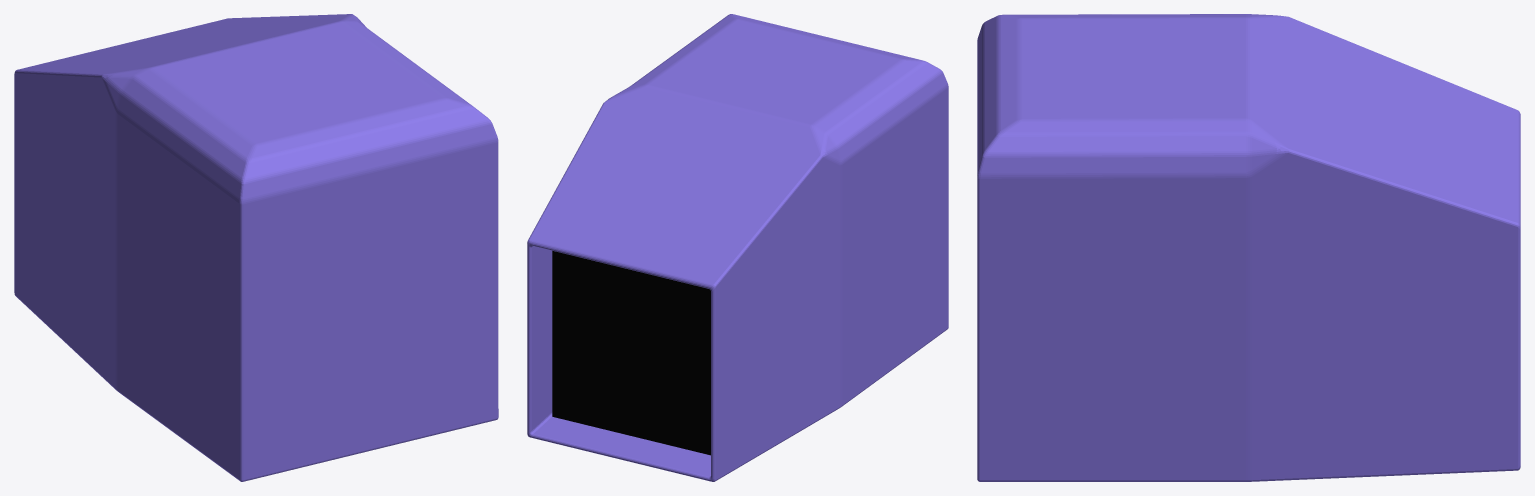
The model's file is ball return.fbx.
The picture shows the model from 3 angles, left to right: view 1: azimuth 30°, elevation 25°; view 2: azimuth 150°, elevation 25°; view 3: azimuth 270°, elevation 25°; orthographic projection. The views are drawn at different scales.
Visible parts, largest first — view 1: Cube; view 2: Cube, Plane; view 3: Cube.
Boxes of the visible parts, x1,y1,x2,y2 form: Cube: (14,14,498,481); Cube: (527,14,948,481); Plane: (552,251,710,455); Cube: (977,14,1520,481).
Size of the model in its own units: 120 by 140 by 200.
